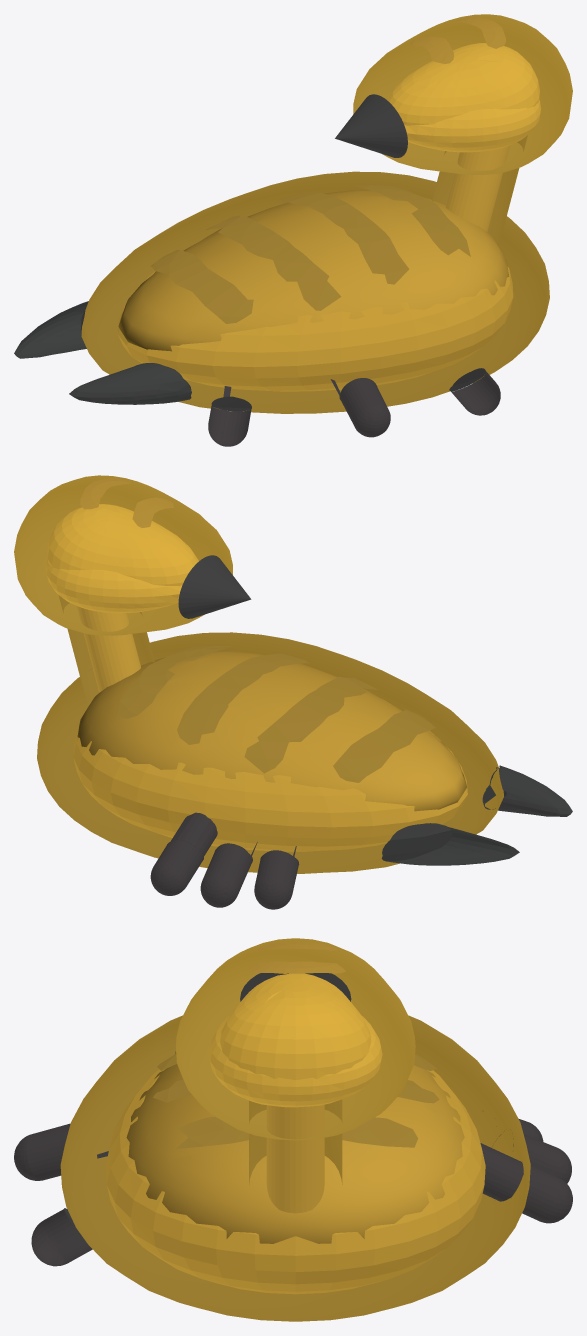
The model's file is scorpion.glb.
3 renders of one model, top to bottom at view 1: azimuth 30°, elevation 25°; view 2: azimuth 150°, elevation 25°; view 3: azimuth 270°, elevation 25°, orthographic. The views are drawn at different scales.
Visible parts, largest first — view 1: Sphere, Sphere.009, Sphere.011, Sphere.010, Cylinder, Sphere.002, Sphere.021, Cone, Sphere.019, Sphere.015, Sphere.020, Sphere.018 (+2 smaller); view 2: Sphere, Sphere.009, Sphere.011, Sphere.010, Cylinder, Sphere.002, Sphere.015, Cone, Sphere.024, Sphere.023, Sphere.025, Sphere.021 (+4 smaller); view 3: Sphere, Sphere.011, Sphere.009, Cylinder, Sphere.002, Sphere.010, Sphere.019, Sphere.018, Sphere.025, Sphere.006, Sphere.012, Sphere.024 (+1 smaller).
Part boxes in pixels (box(x1,y1,x2,y2)): Sphere: box(81, 171, 549, 413); Sphere.009: box(118, 190, 509, 351); Sphere.011: box(353, 14, 572, 174); Sphere.010: box(150, 185, 470, 323); Cylinder: box(432, 135, 527, 246); Sphere.002: box(404, 99, 541, 152); Sphere.021: box(69, 363, 191, 404); Cone: box(335, 94, 407, 157); Sphere.019: box(339, 378, 390, 437); Sphere.015: box(15, 302, 86, 357); Sphere.020: box(208, 396, 251, 446); Sphere.018: box(449, 368, 500, 415); Sphere: box(37, 632, 503, 873); Sphere.009: box(77, 650, 466, 811); Sphere.011: box(14, 475, 232, 635); Sphere.010: box(117, 645, 436, 782); Cylinder: box(58, 595, 154, 706); Sphere.002: box(46, 560, 182, 613); Sphere.015: box(382, 824, 517, 865); Cone: box(178, 555, 251, 618); Sphere.024: box(200, 843, 252, 907); Sphere.023: box(254, 850, 299, 909); Sphere.025: box(150, 839, 203, 895); Sphere.021: box(498, 765, 572, 816); Sphere: box(60, 1015, 530, 1321); Sphere.011: box(175, 938, 415, 1140); Sphere.009: box(126, 1064, 464, 1243); Cylinder: box(249, 1099, 342, 1213); Sphere.002: box(209, 1016, 382, 1107); Sphere.010: box(153, 1054, 439, 1149); Sphere.019: box(14, 1123, 70, 1180); Sphere.018: box(31, 1208, 92, 1266); Sphere.025: box(522, 1165, 572, 1223); Sphere.006: box(480, 1143, 523, 1201); Sphere.012: box(247, 942, 345, 973); Sphere.024: box(495, 1134, 571, 1183).
Bounding box in the file's own units: 3.27 × 1.92 × 2.48.
